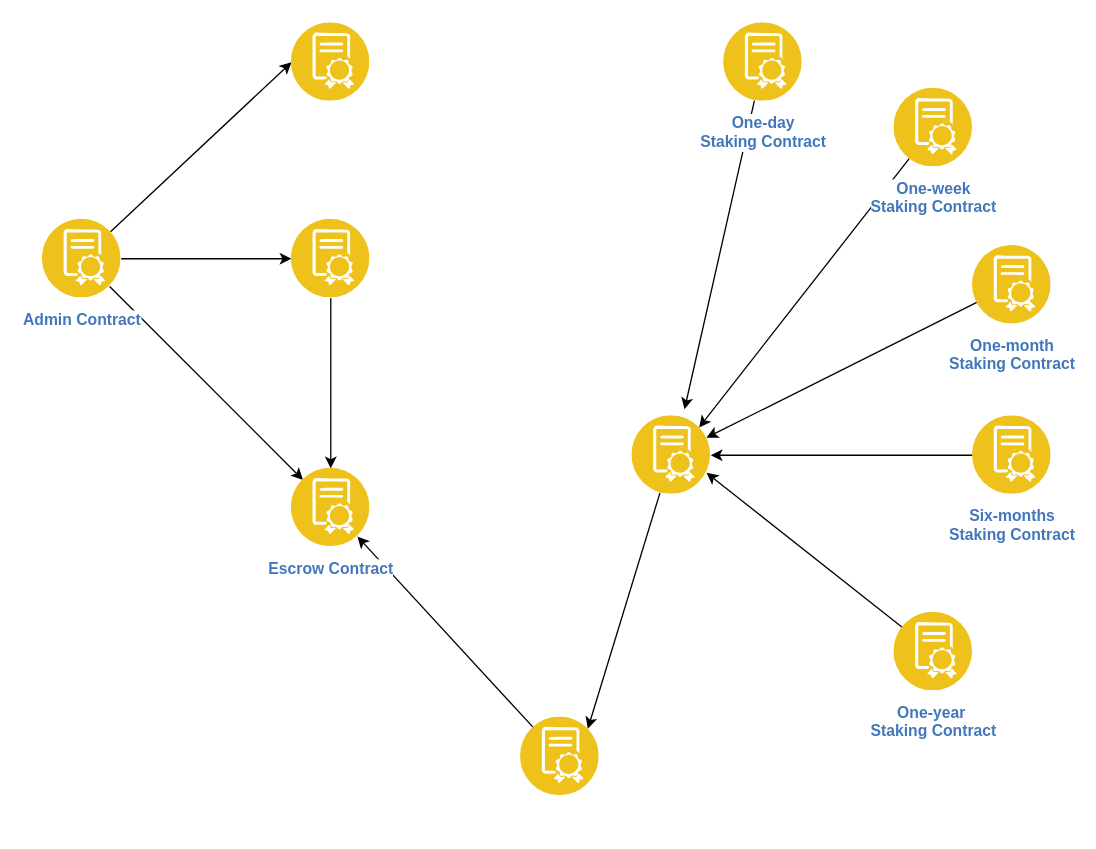
Image size: 1096x849. Some labels were removed from this diagram. The box of each missing label's shape, as (x1, y1, x2, y2) in pixels:
Fee Contract: (291, 219, 369, 297)
Fee Treasury Contract: (291, 22, 369, 101)
Rewards Distribution Contract: (520, 717, 599, 795)
Staking Platform: (631, 415, 710, 494)
